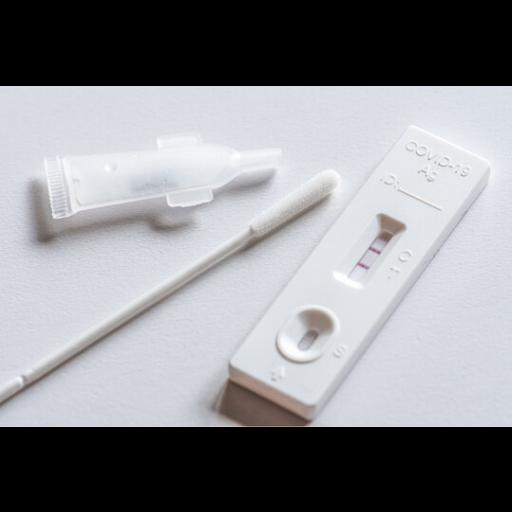Pos: (228, 124, 491, 407)
